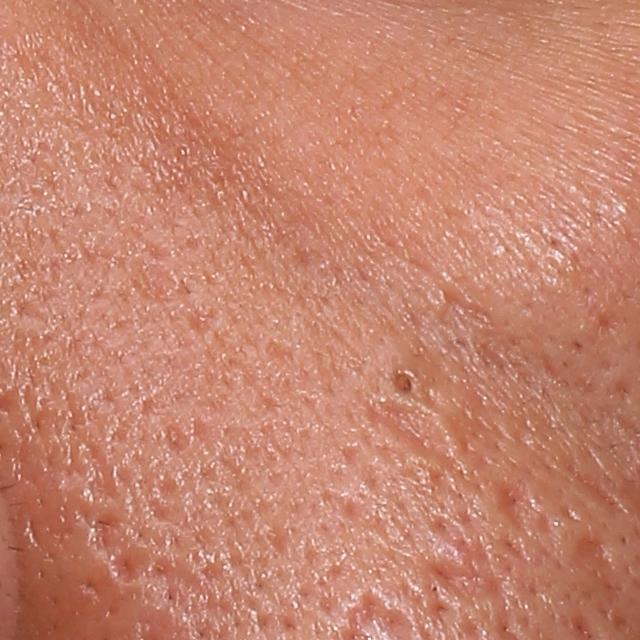atrophic_scar: (353, 394, 467, 473), (419, 505, 499, 580), (85, 510, 148, 582), (431, 282, 503, 334), (427, 556, 500, 601), (132, 256, 185, 307), (573, 532, 614, 570), (260, 332, 305, 363), (165, 420, 199, 456)
comedo: (385, 360, 421, 396)
